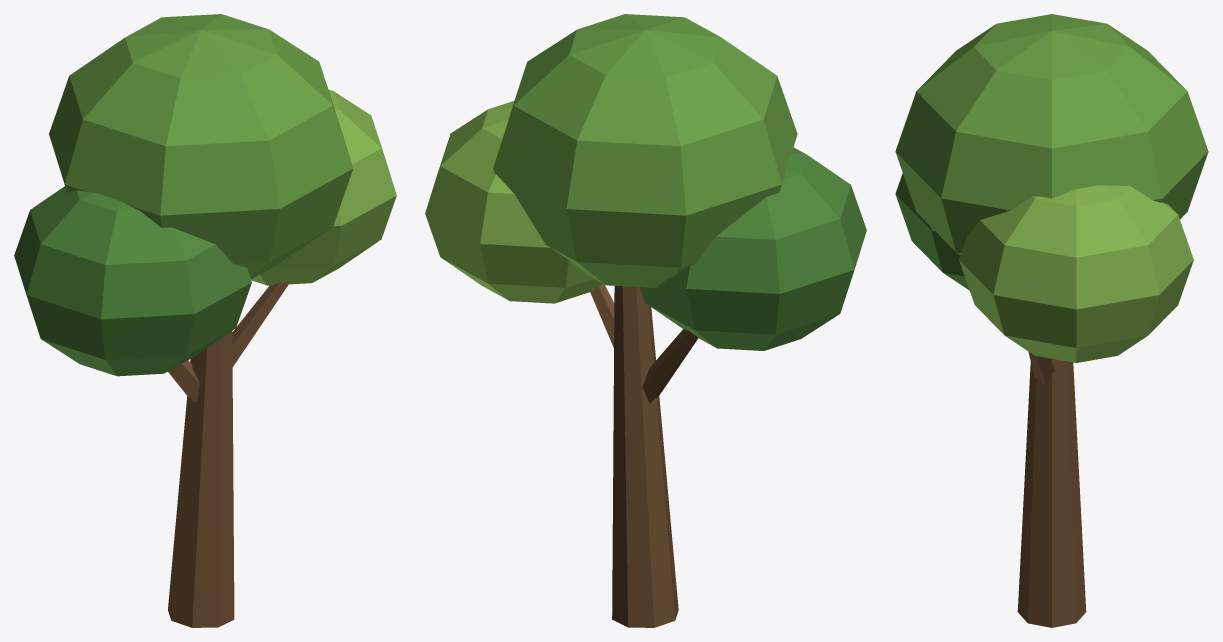
Rendered from tree_tall_lod0.obj.
The picture shows the model from 3 angles, left to right: view 1: azimuth 30°, elevation 25°; view 2: azimuth 150°, elevation 25°; view 3: azimuth 270°, elevation 25°; orthographic projection.
Visible parts, largest first — view 1: tree_tall_lod0; view 2: tree_tall_lod0; view 3: tree_tall_lod0.
Part boxes in pixels (x1,y1,x2,y2): tree_tall_lod0: [14, 14, 396, 627]; tree_tall_lod0: [425, 14, 866, 627]; tree_tall_lod0: [895, 14, 1208, 627].
Size of the model in its own units: 4.55 by 6.57 by 3.2.
1 material, 1 textured.
